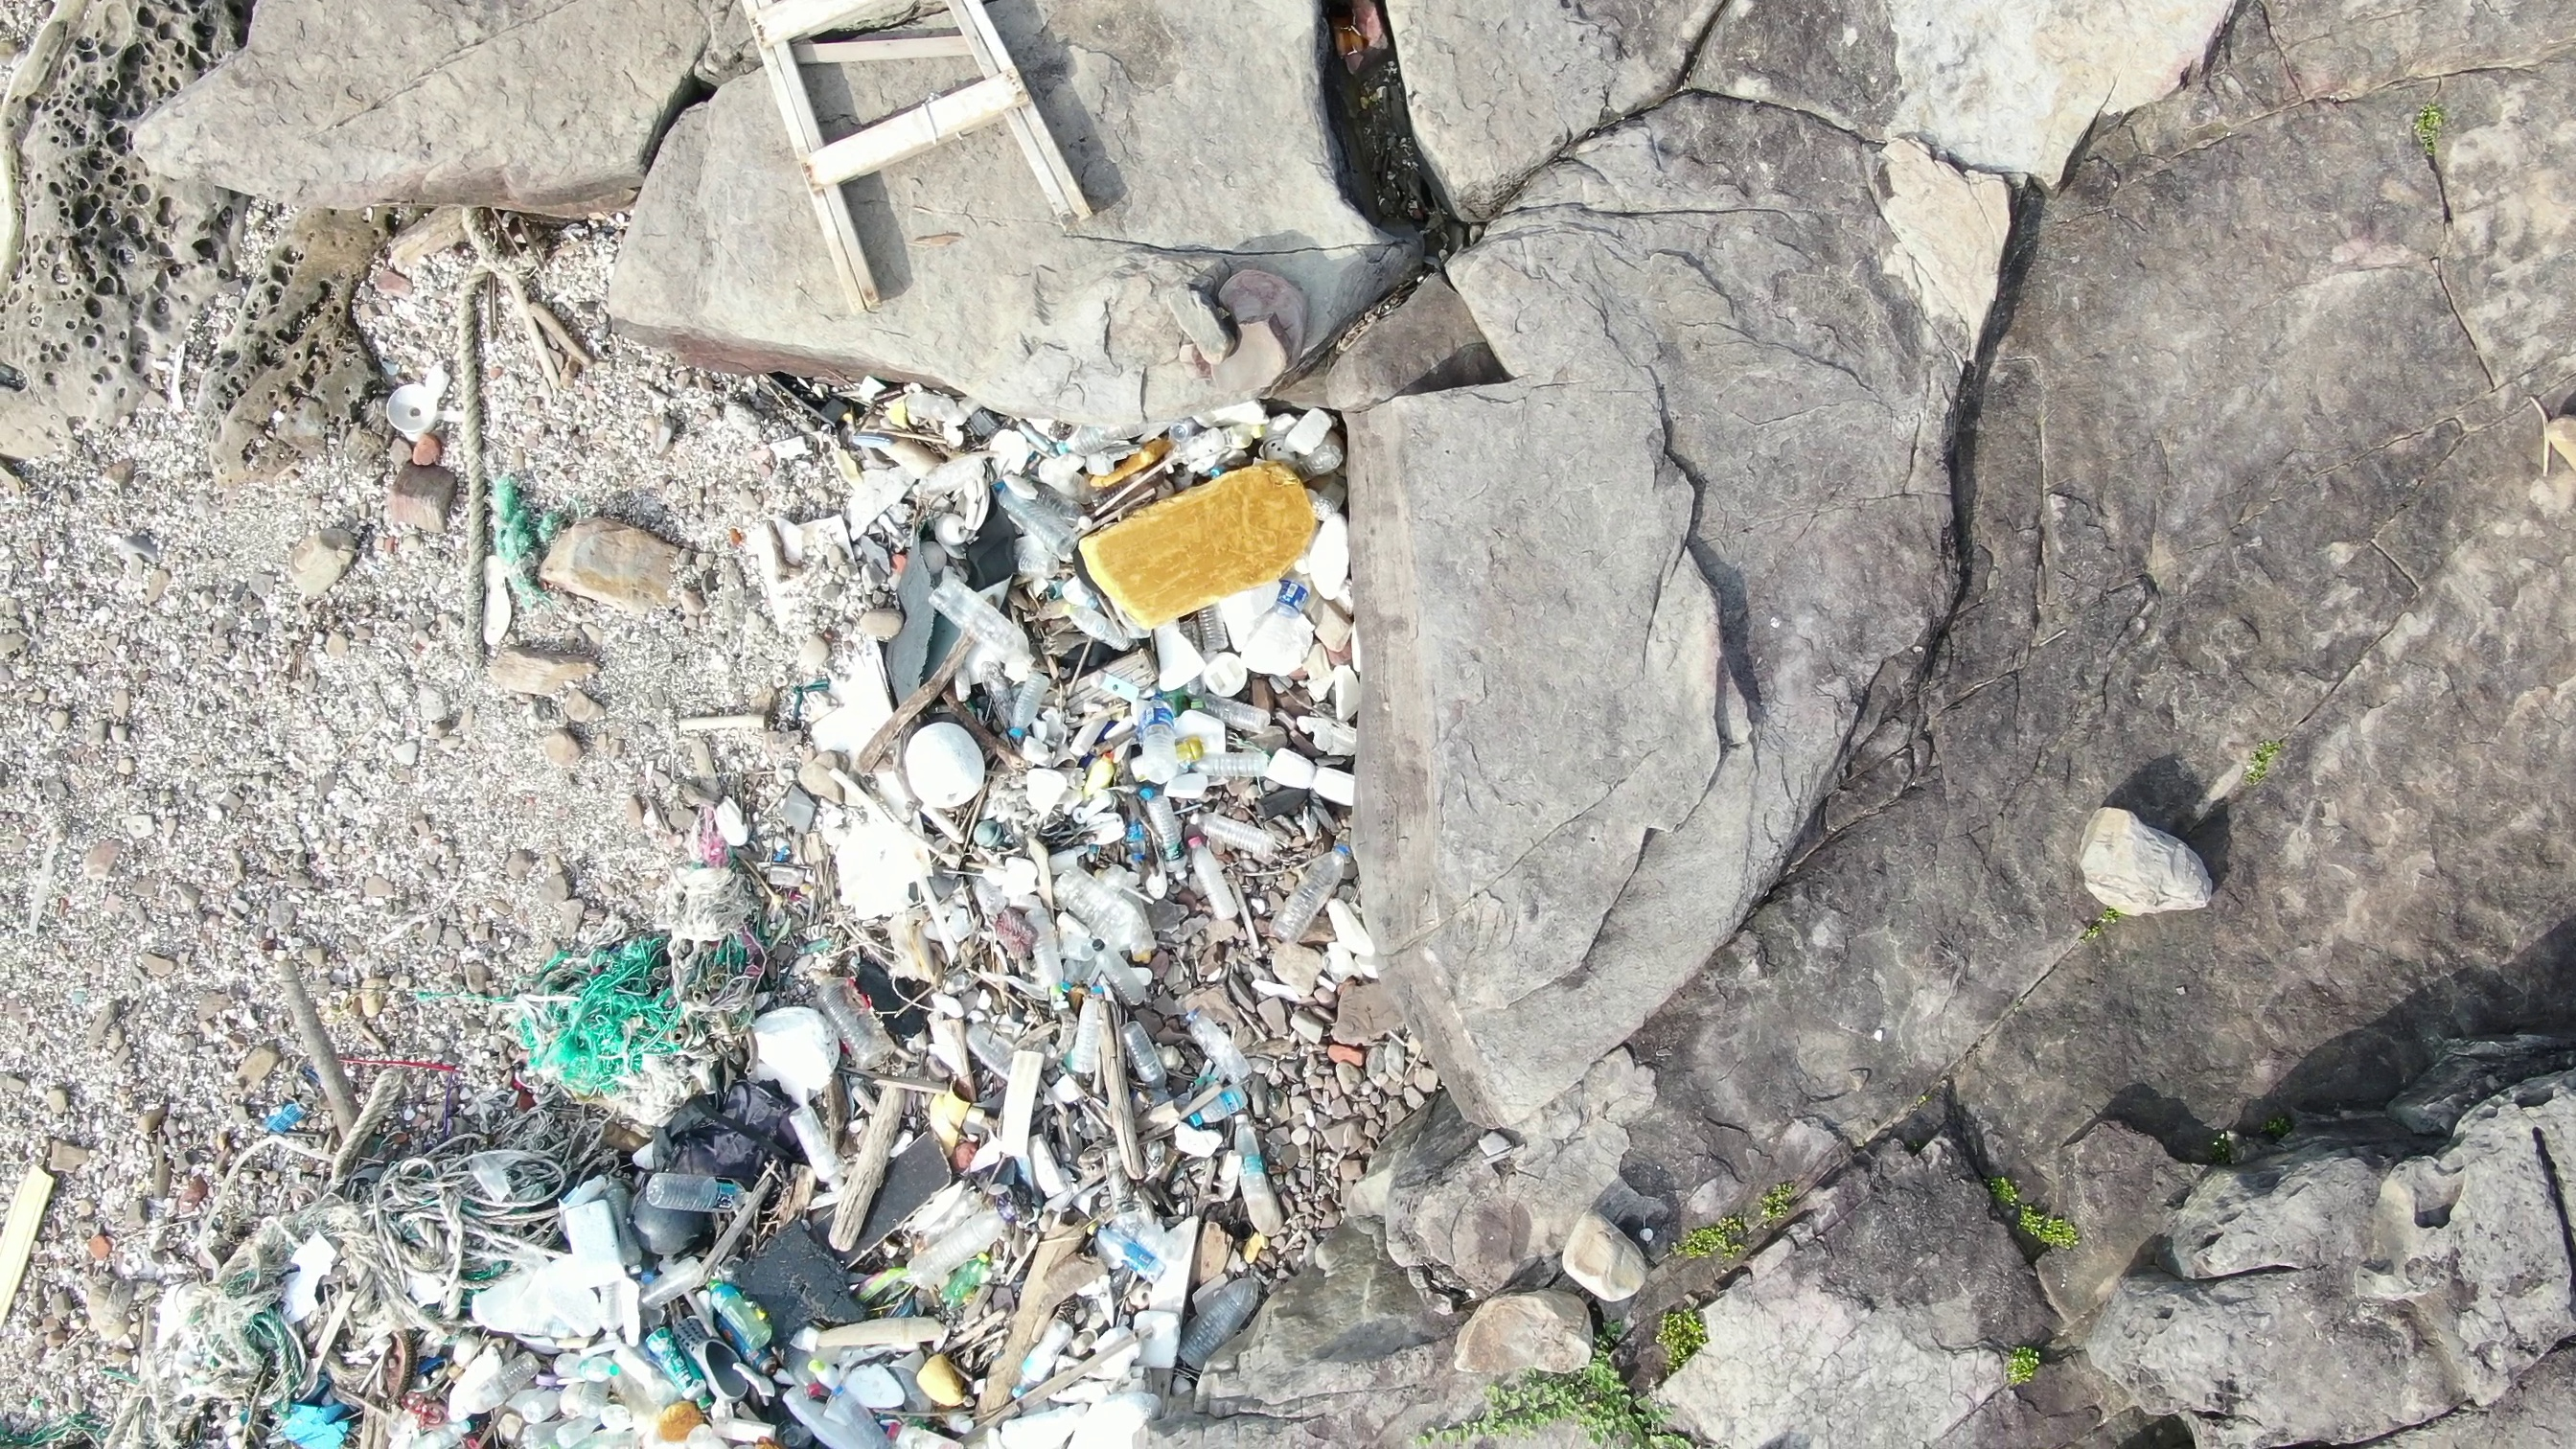bottle: (1168, 1261, 1286, 1369), (1272, 819, 1359, 945), (982, 465, 1081, 564), (810, 962, 893, 1072), (1247, 557, 1322, 674), (1235, 1111, 1293, 1233), (1085, 1210, 1164, 1293), (1008, 660, 1072, 752), (646, 1168, 757, 1219), (646, 1323, 718, 1401), (706, 1277, 770, 1357), (1185, 1005, 1251, 1079), (1141, 685, 1184, 791), (939, 1244, 1001, 1309), (1118, 1021, 1171, 1093)
garbage: (732, 386, 1366, 1449), (120, 870, 757, 1449), (720, 7, 1125, 317), (441, 255, 547, 685)
